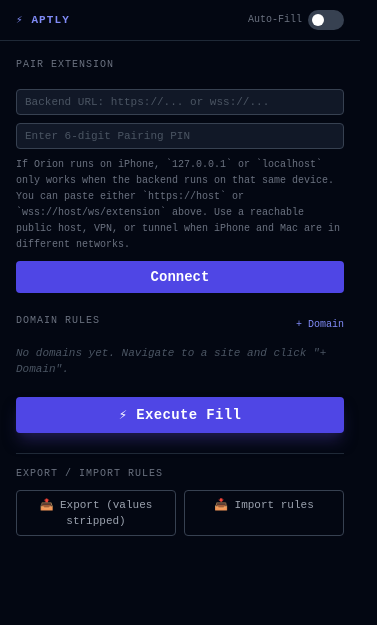
Test case: App.svelte › shows iPhone/orion pairing hint and detailed pairing error
Expected: the text "different networks" is shown, 16,159 -> 340,250
Expected: the field with placeholder "Backend URL: https://... or wss://..." is shown, 16,89 -> 344,115
Type "123456" into the field with placeholder "Enter 6-digit Pairing PIN".
click(180, 136); type("123456")  # box 16,123 -> 344,149
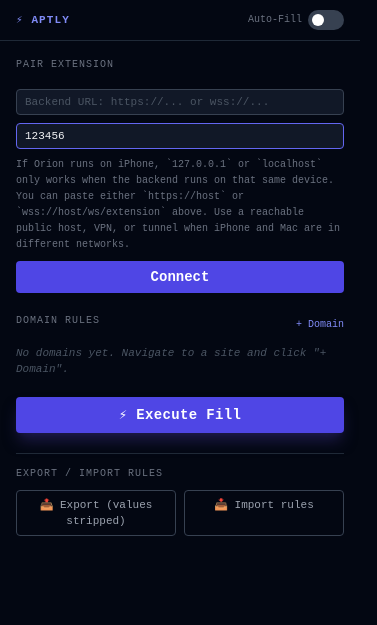
Click the button "Connect".
click(180, 277)  # box 16,261 -> 344,293
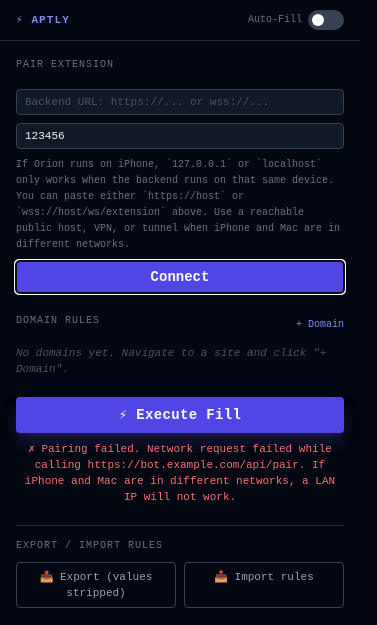
Result: the text "Network request failed while calling" is shown at 25,443 -> 335,503
